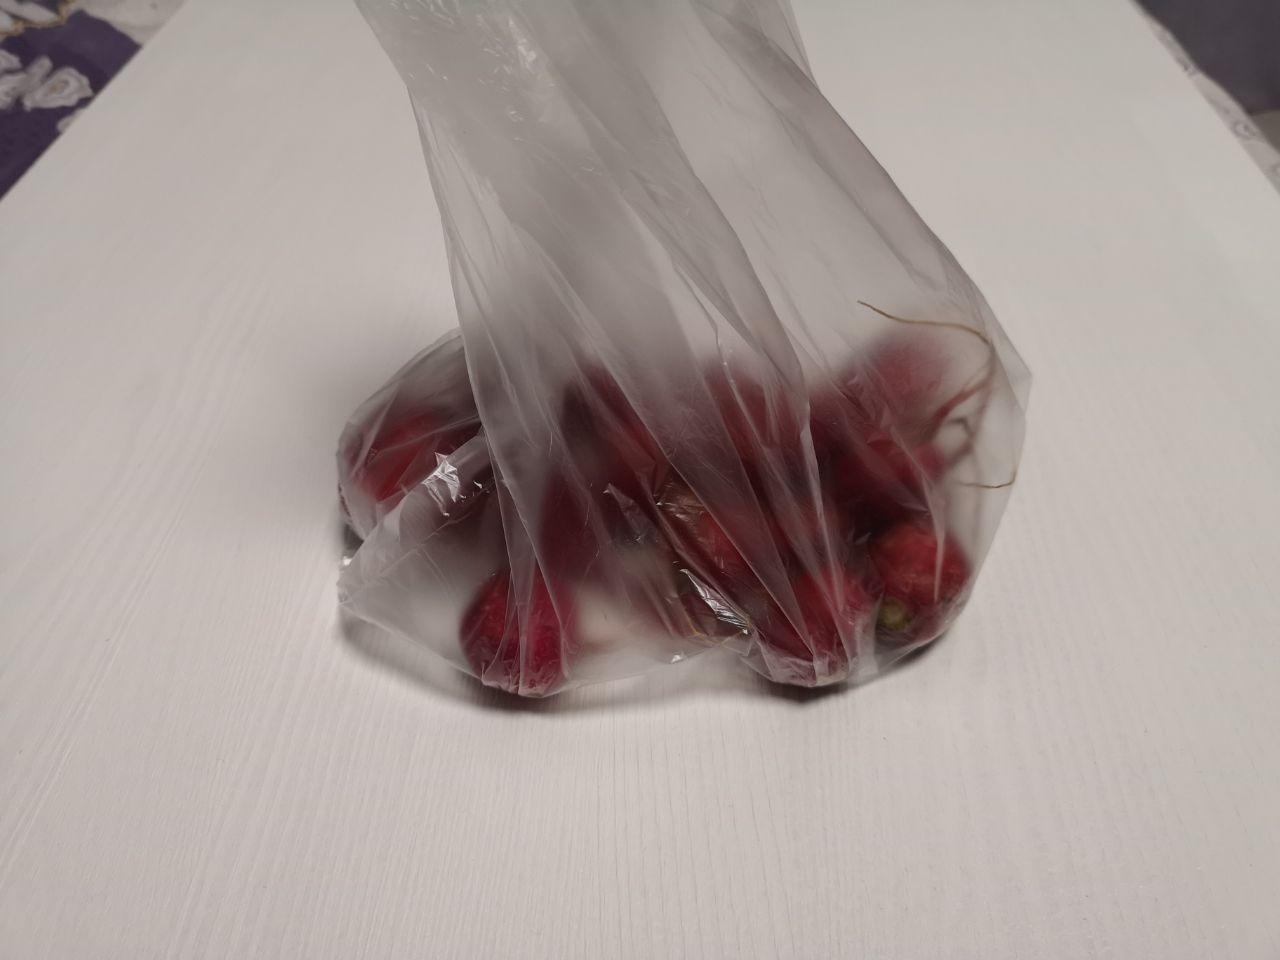redish: (306, 278, 1048, 747)
